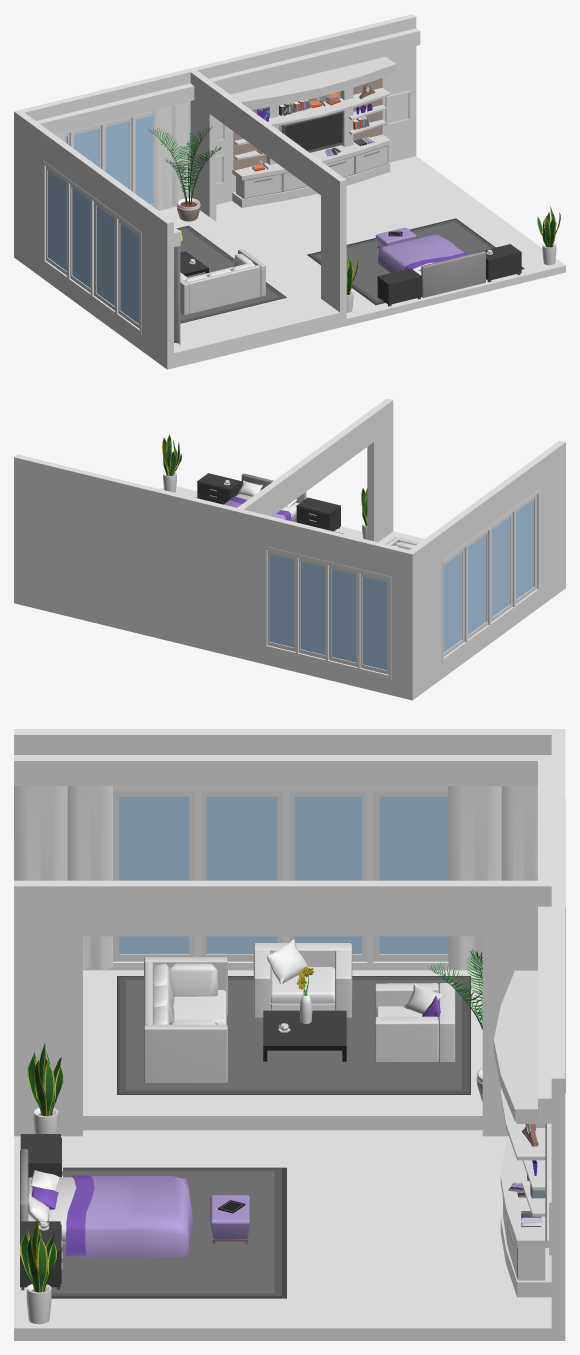
File: cozy03.glb
The picture shows the model from 3 angles, top to bottom: view 1: azimuth 30°, elevation 25°; view 2: azimuth 150°, elevation 25°; view 3: azimuth 270°, elevation 25°; orthographic projection. The views are drawn at different scales.
Parts seen in each view (by area): view 1: polySurface3; view 2: polySurface3; view 3: polySurface3.
Boxes of the visible parts, <box> form: polySurface3: <box>14,14,565,369</box>; polySurface3: <box>14,398,565,700</box>; polySurface3: <box>14,729,565,1340</box>.
Bounding box in the file's own units: 15.37 × 5.38 × 10.25.
1 material, 1 textured.
